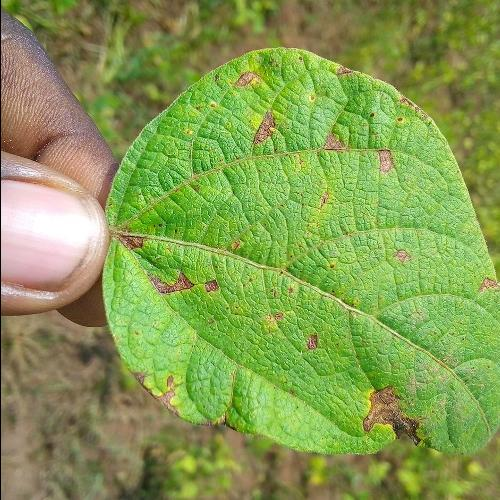hawar: (99, 46, 496, 459)
